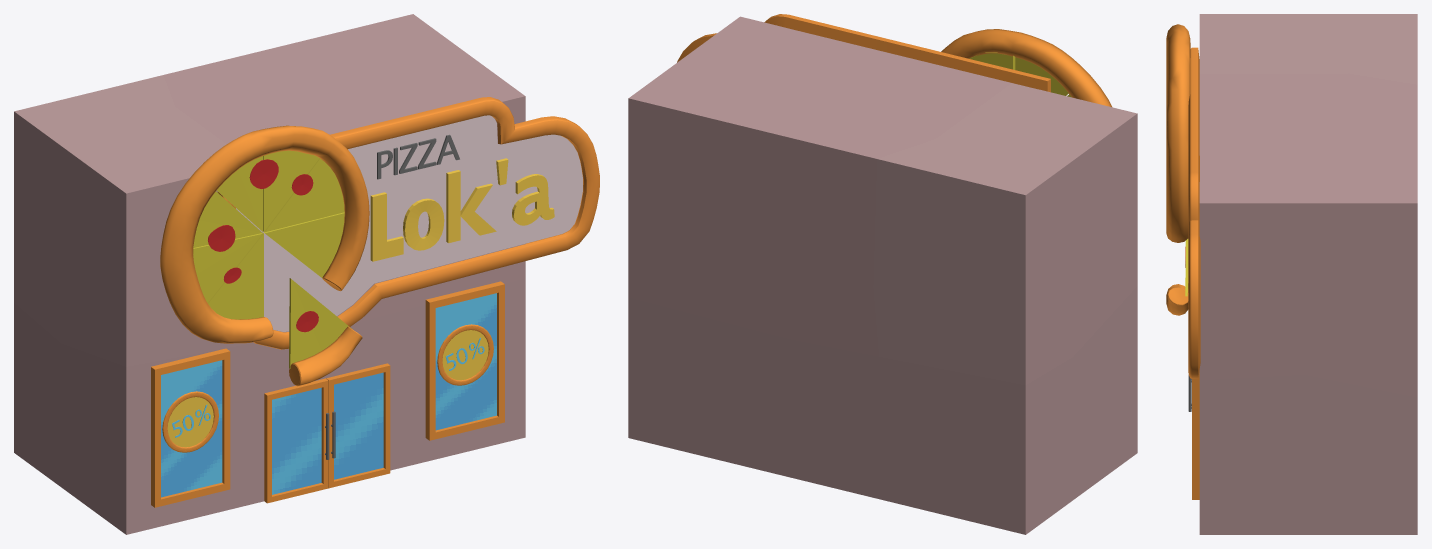
The model's file is pizza_house.fbx.
3 views of the same model, side by side, from view 1: azimuth 30°, elevation 25°; view 2: azimuth 150°, elevation 25°; view 3: azimuth 270°, elevation 25° (orthographic). The views are drawn at different scales.
Parts seen in each view (by area): view 1: pizza; view 2: pizza; view 3: pizza.
Boxes of the visible parts, <box> form: pizza: <box>14,14,599,534</box>; pizza: <box>628,14,1137,534</box>; pizza: <box>1166,14,1417,534</box>.
Bounding box in the file's own units: 1566 × 1216 × 747.
